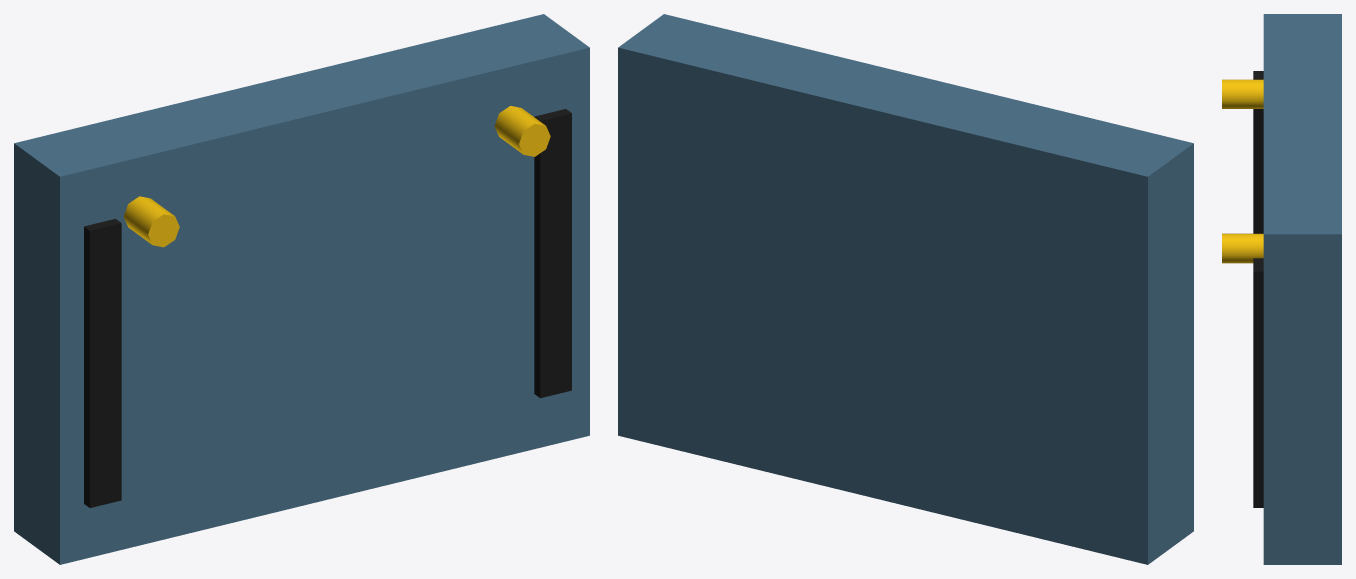
Rendered from item_jig.obj.
3 views of the same model, side by side, from view 1: azimuth 30°, elevation 25°; view 2: azimuth 150°, elevation 25°; view 3: azimuth 270°, elevation 25° (orthographic). The views are drawn at different scales.
Parts seen in each view (by area): view 1: item_jig; view 2: item_jig; view 3: item_jig.
Boxes of the visible parts, left/top/right/bottom form: item_jig: left=14, top=14, right=589, bottom=564; item_jig: left=618, top=14, right=1193, bottom=564; item_jig: left=1222, top=14, right=1341, bottom=564.
Bounding box in the file's own units: 0.2 × 0.14 × 0.046.
Materials: 1 (1 with a texture image).
